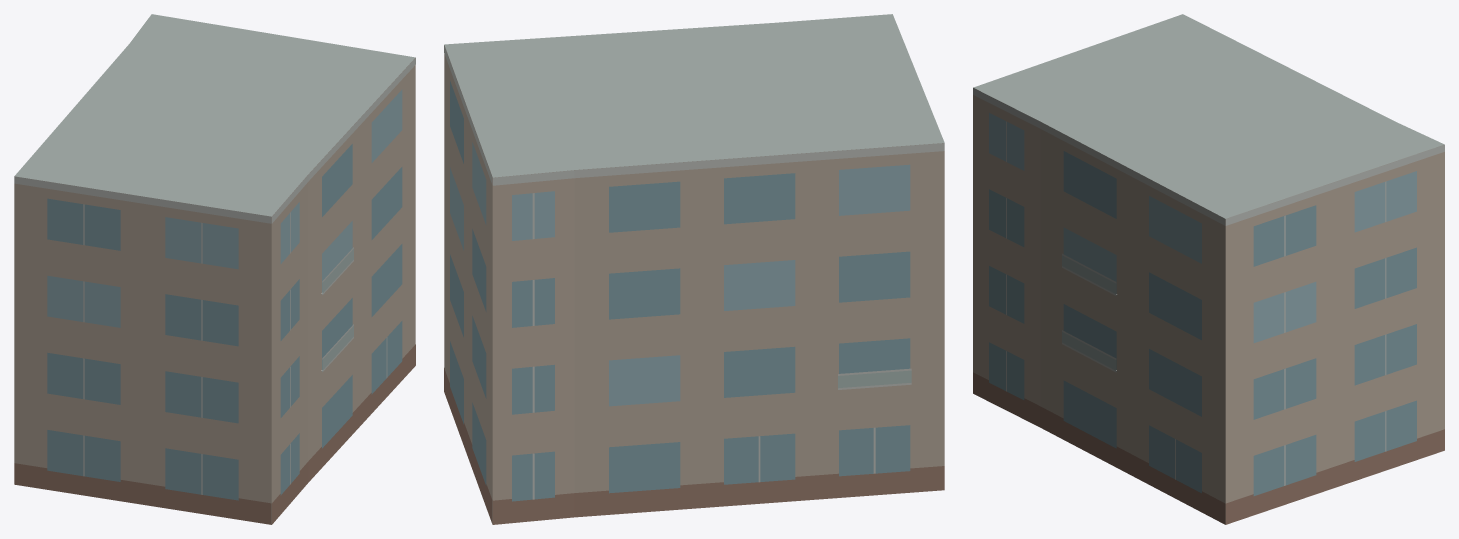
Rendered from survey-upis-33040151.glb.
3 renders of one model, left to right at view 1: azimuth 30°, elevation 25°; view 2: azimuth 150°, elevation 25°; view 3: azimuth 270°, elevation 25°, orthographic. The views are drawn at different scales.
Parts seen in each view (by area): view 1: survey-upis-33040151.tmp; view 2: survey-upis-33040151.tmp; view 3: survey-upis-33040151.tmp.
Boxes of the visible parts, x1,y1,x2,y2 form: survey-upis-33040151.tmp: [14, 14, 415, 524]; survey-upis-33040151.tmp: [444, 14, 944, 524]; survey-upis-33040151.tmp: [973, 14, 1444, 524].
Bounding box in the file's own units: 14.94 × 10.4 × 14.54.
